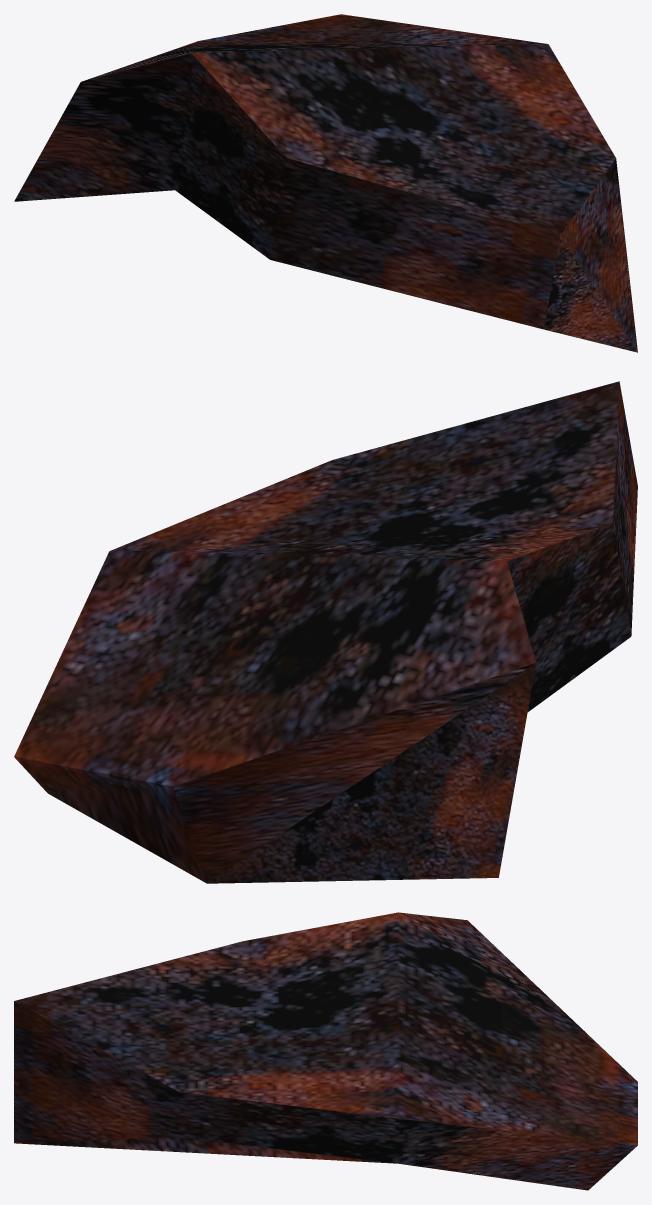
File: Shard_helicopter.glb
The picture shows the model from 3 angles, top to bottom: view 1: azimuth 30°, elevation 25°; view 2: azimuth 150°, elevation 25°; view 3: azimuth 270°, elevation 25°; orthographic projection. The views are drawn at different scales.
Visible parts, largest first — view 1: SHARD_HELICOPTER; view 2: SHARD_HELICOPTER; view 3: SHARD_HELICOPTER.
Boxes of the visible parts, x1=… form: SHARD_HELICOPTER: x1=14, y1=14, x2=637, y2=352; SHARD_HELICOPTER: x1=14, y1=381, x2=637, y2=883; SHARD_HELICOPTER: x1=14, y1=912, x2=637, y2=1190.
Size of the model in its own units: 1.5 by 0.781 by 2.23.
1 material, 1 textured.
